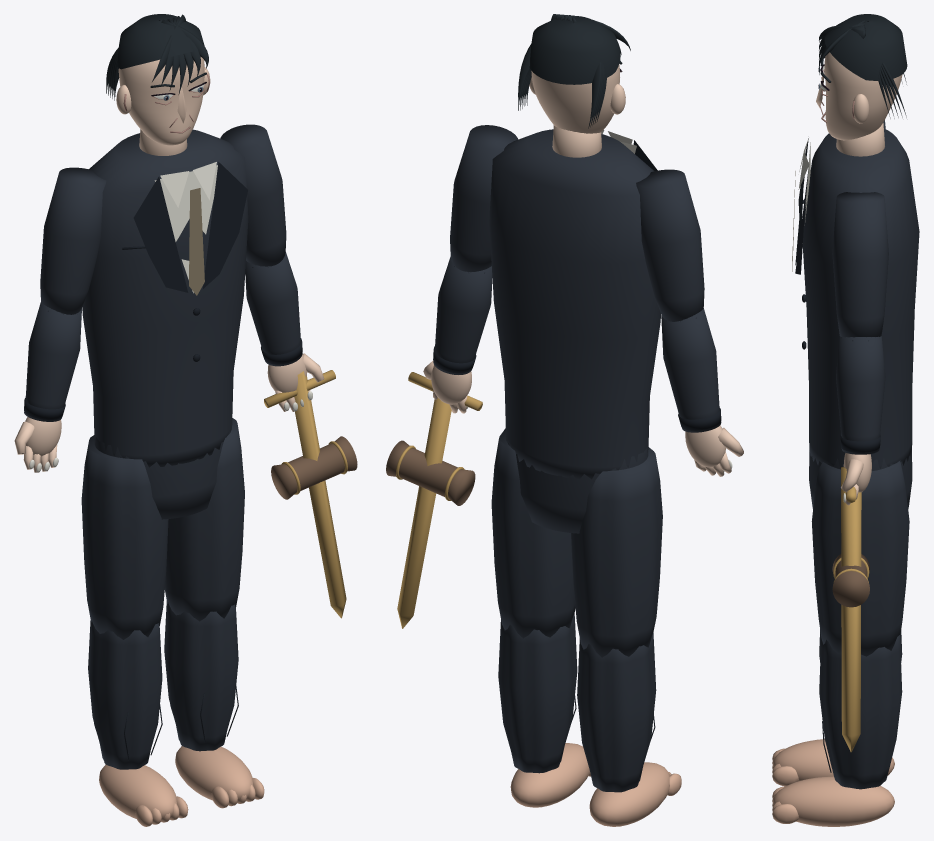
File: higurumaCulling.glb
3 renders of one model, left to right at view 1: azimuth 30°, elevation 25°; view 2: azimuth 150°, elevation 25°; view 3: azimuth 270°, elevation 25°, orthographic. The views are drawn at different scales.
Visible parts, largest first — view 1: tailored torso.012, draped trouser upper leg.028, draped trouser upper leg.029, draped trouser lower leg.029, draped trouser lower leg.028, shaped upper sleeve.016, jacket welt pocket.002, shaped upper sleeve.017, ear.012, brow.028, overlapping elbow.028, overlapping elbow.029 (+10 smaller); view 2: tailored torso.012, draped trouser upper leg.028, draped trouser upper leg.029, draped trouser lower leg.028, draped trouser lower leg.029, shaped upper sleeve.016, brow.028, shaped upper sleeve.017, overlapping elbow.028, overlapping elbow.029, executioner cross guard.002, fitted trouser seat.014 (+7 smaller); view 3: tailored torso.012, draped trouser upper leg.029, draped trouser lower leg.029, shaped upper sleeve.017, brow.028, overlapping elbow.029, foot.031, executioner cross guard.002, ear.012, foot.030, barrel gavel head.002, finger.128 (+5 smaller).
Boxes of the visible parts, bbox=[...] form: tailored torso.012: bbox=[82, 129, 248, 467]; draped trouser upper leg.028: bbox=[81, 435, 168, 639]; draped trouser upper leg.029: bbox=[164, 418, 244, 621]; draped trouser lower leg.029: bbox=[164, 601, 238, 751]; draped trouser lower leg.028: bbox=[88, 620, 162, 769]; shaped upper sleeve.016: bbox=[40, 167, 106, 314]; jacket welt pocket.002: bbox=[122, 162, 247, 361]; shaped upper sleeve.017: bbox=[220, 124, 286, 266]; ear.012: bbox=[116, 57, 210, 145]; brow.028: bbox=[106, 14, 208, 100]; overlapping elbow.028: bbox=[24, 302, 81, 421]; overlapping elbow.029: bbox=[245, 252, 302, 366]; tailored torso.012: bbox=[489, 129, 660, 479]; draped trouser upper leg.028: bbox=[571, 447, 662, 657]; draped trouser upper leg.029: bbox=[491, 428, 575, 638]; draped trouser lower leg.028: bbox=[577, 632, 656, 792]; draped trouser lower leg.029: bbox=[498, 613, 577, 773]; shaped upper sleeve.016: bbox=[636, 169, 704, 321]; brow.028: bbox=[518, 14, 630, 128]; shaped upper sleeve.017: bbox=[450, 125, 518, 272]; overlapping elbow.028: bbox=[661, 308, 721, 432]; overlapping elbow.029: bbox=[433, 257, 492, 374]; executioner cross guard.002: bbox=[397, 372, 482, 628]; fitted trouser seat.014: bbox=[506, 431, 648, 533]; tailored torso.012: bbox=[802, 128, 919, 468]; draped trouser upper leg.029: bbox=[811, 460, 909, 656]; draped trouser lower leg.029: bbox=[819, 635, 902, 789]; shaped upper sleeve.017: bbox=[832, 192, 888, 337]; brow.028: bbox=[818, 14, 907, 118]; overlapping elbow.029: bbox=[836, 336, 885, 454]; foot.031: bbox=[772, 776, 894, 826]; executioner cross guard.002: bbox=[841, 467, 861, 752]; ear.012: bbox=[816, 52, 902, 140]; foot.030: bbox=[772, 739, 894, 786]; barrel gavel head.002: bbox=[832, 554, 869, 607]; finger.128: bbox=[841, 453, 871, 505].
Bounding box in the file's own units: 0.8373 × 1.84 × 0.3125.
